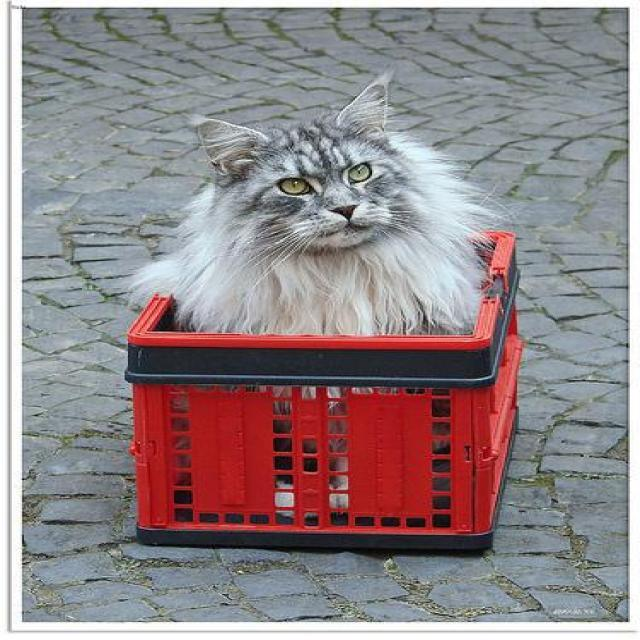cat: (139, 83, 474, 461)
